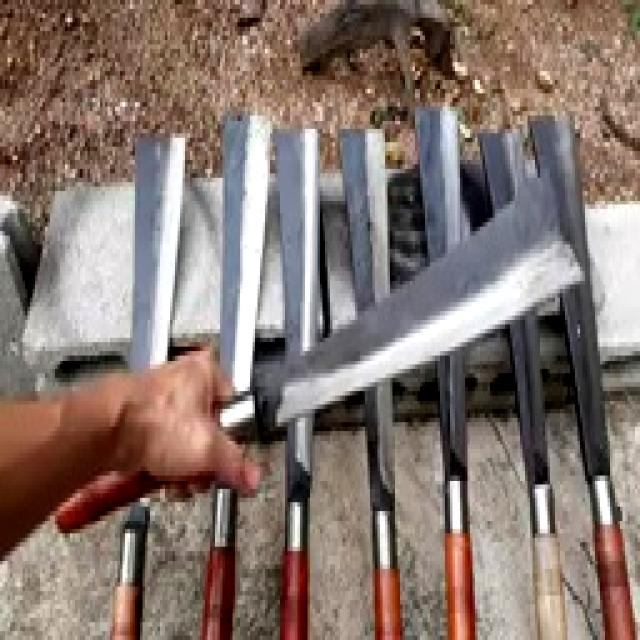eto: (201, 116, 271, 636)
